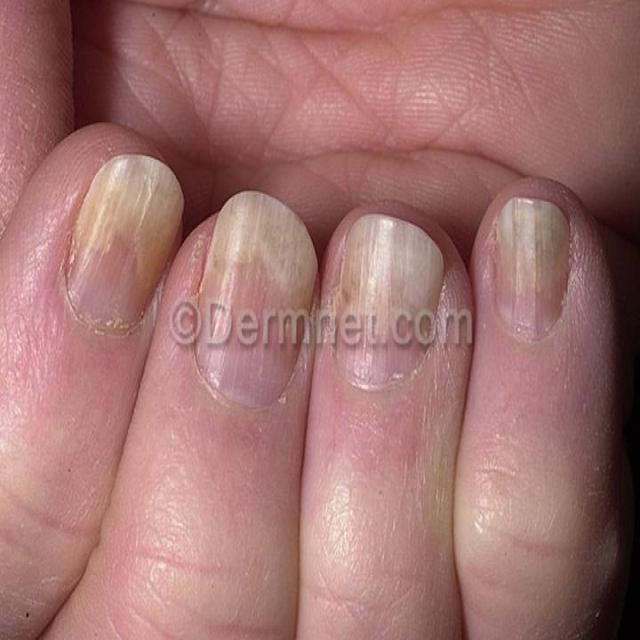Nail: (193, 191, 318, 408), (67, 157, 186, 333), (337, 214, 444, 386), (493, 194, 572, 338)
